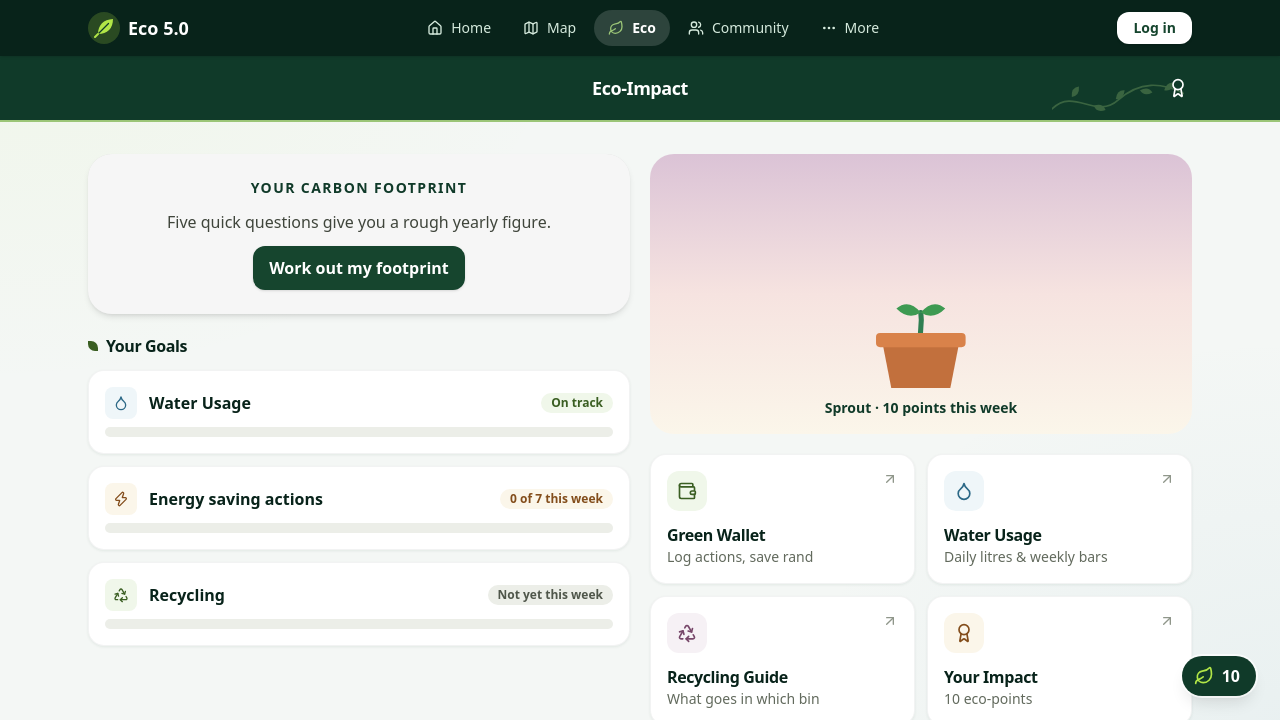
Scenario: impact tracker (floats on every page) › opens on tap with the totals from Green Wallet and a sourced comparison
Click the button named "Your impact: 10 eco-points" at x=1219, y=676, box left=1182, top=656, right=1256, bottom=696
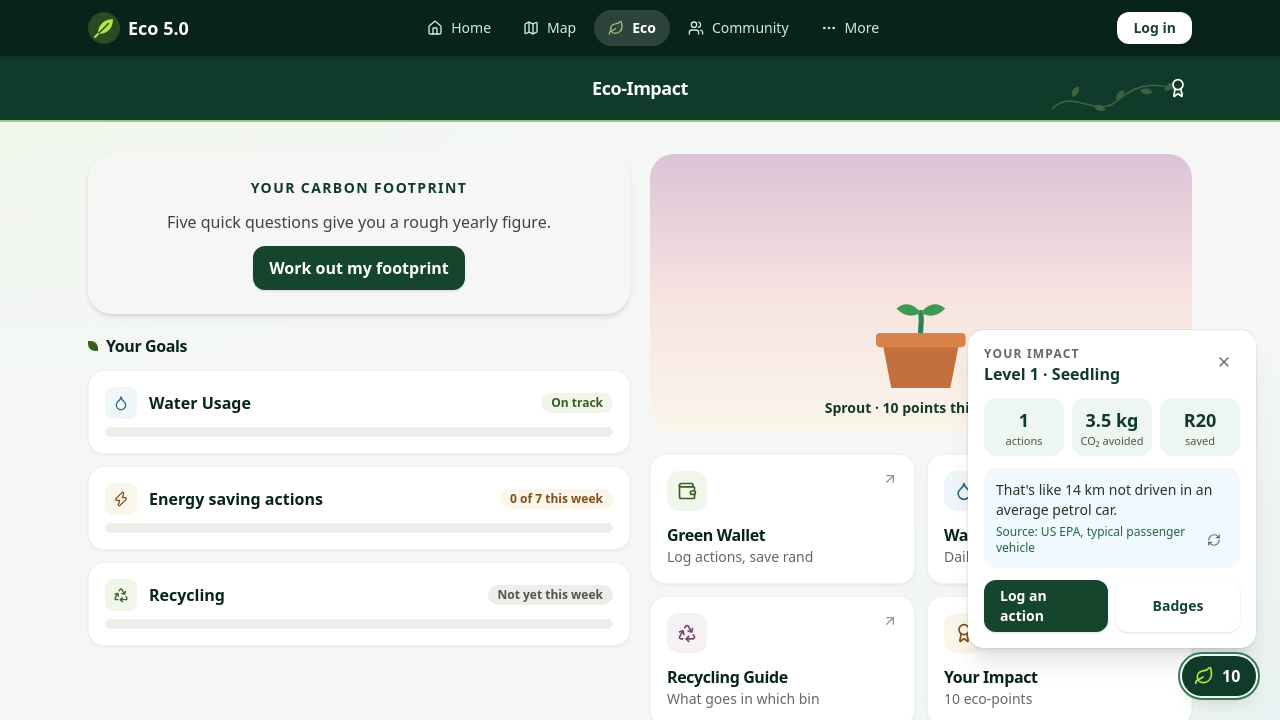
Expected: the text "3.5 kg" is shown, left=1086, top=408, right=1138, bottom=432
Expected: the text "R20" is shown, left=1184, top=408, right=1216, bottom=432
Expected: the text "That's like 14 km not driven in an average petrol car." is shown, left=996, top=480, right=1228, bottom=520
Click the button named "Another comparison" at x=1214, y=540, box left=1200, top=526, right=1228, bottom=554
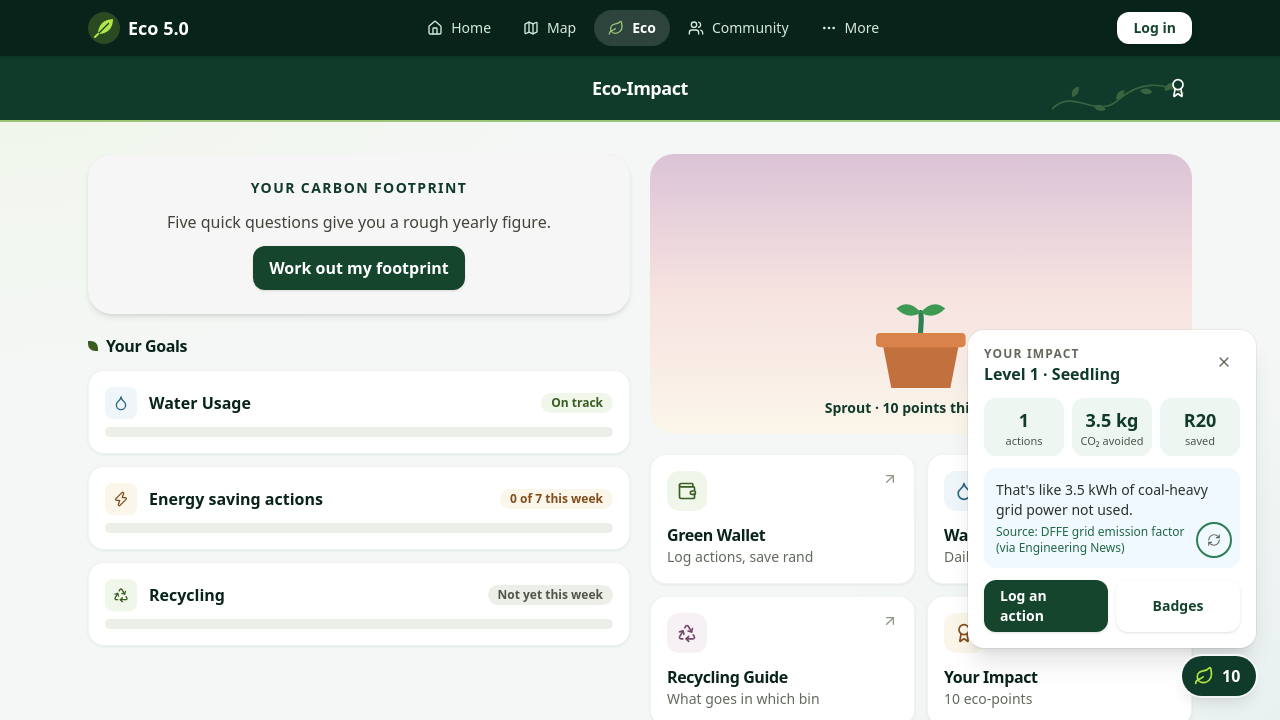
Expected: the text "That's like 3.5 kWh of coal-heavy grid power not used." is shown, left=996, top=480, right=1228, bottom=520
